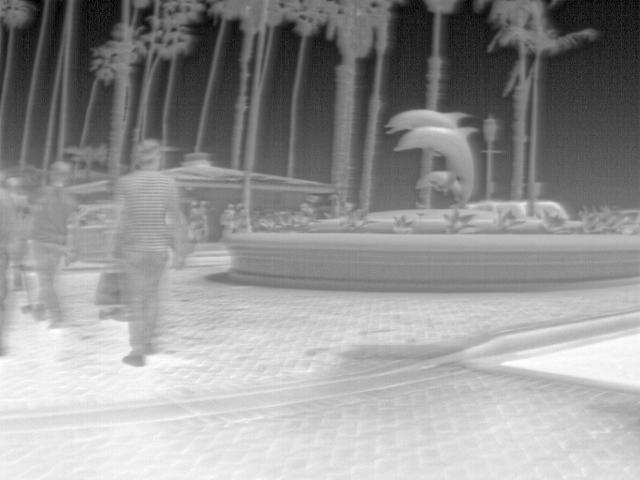car: (59, 201, 112, 268), (463, 199, 526, 218), (534, 201, 570, 221)
person: (102, 137, 184, 366), (24, 158, 74, 328), (3, 176, 24, 297), (219, 201, 237, 241), (232, 200, 251, 234), (195, 199, 210, 240)
